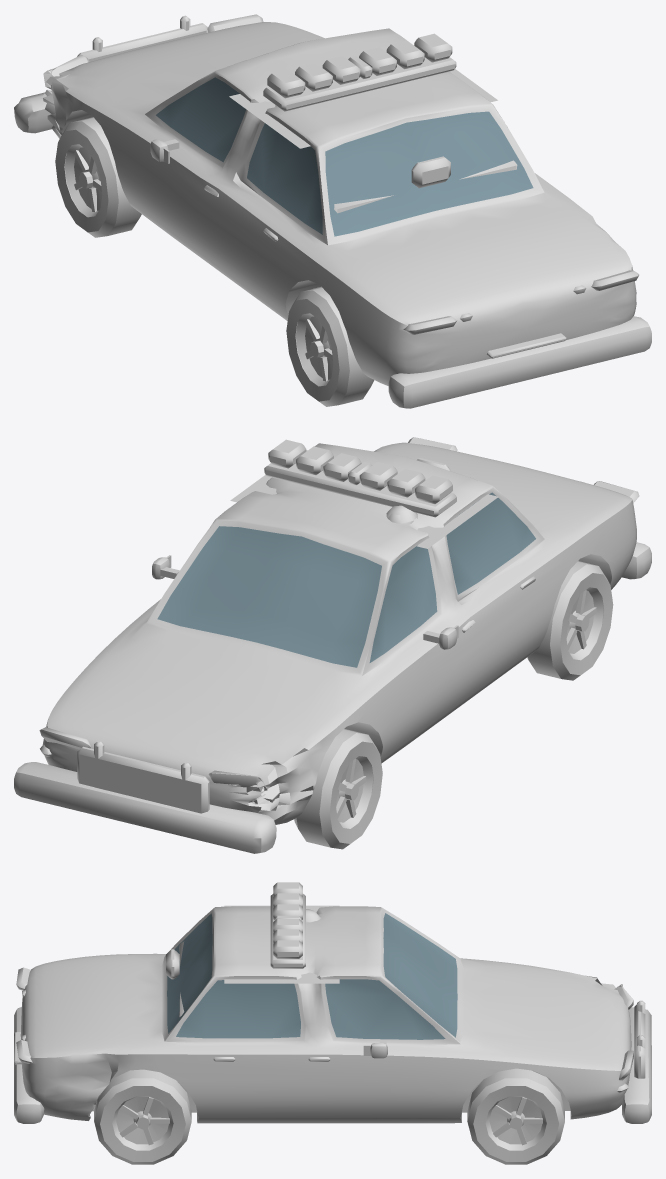
The model's file is car_police_dmg1.glb.
3 renders of one model, top to bottom at view 1: azimuth 30°, elevation 25°; view 2: azimuth 150°, elevation 25°; view 3: azimuth 270°, elevation 25°, orthographic. The views are drawn at different scales.
Parts seen in each view (by area): view 1: car_police_dmg1; view 2: car_police_dmg1; view 3: car_police_dmg1.
Boxes of the visible parts, x1=… form: car_police_dmg1: x1=14, y1=14, x2=651, y2=408; car_police_dmg1: x1=14, y1=437, x2=651, y2=853; car_police_dmg1: x1=14, y1=882, x2=651, y2=1164.
Size of the model in its own units: 2.06 by 1.62 by 4.7.
